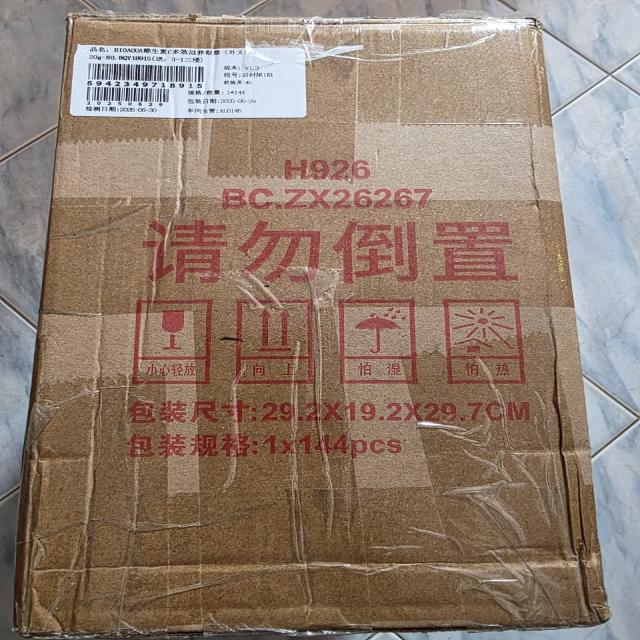carton_box: (13, 0, 632, 640)
export_mark_label: (60, 38, 341, 130)
fragile_label: (122, 291, 221, 389)
keep_dry_label: (328, 286, 431, 397)
protect_from_heat_label: (440, 290, 544, 398)
this_side_up_label: (228, 284, 331, 395)
